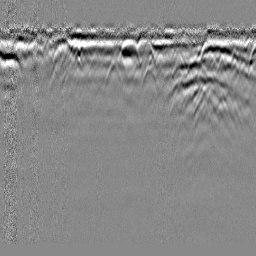cavity: (116, 38, 140, 64)
